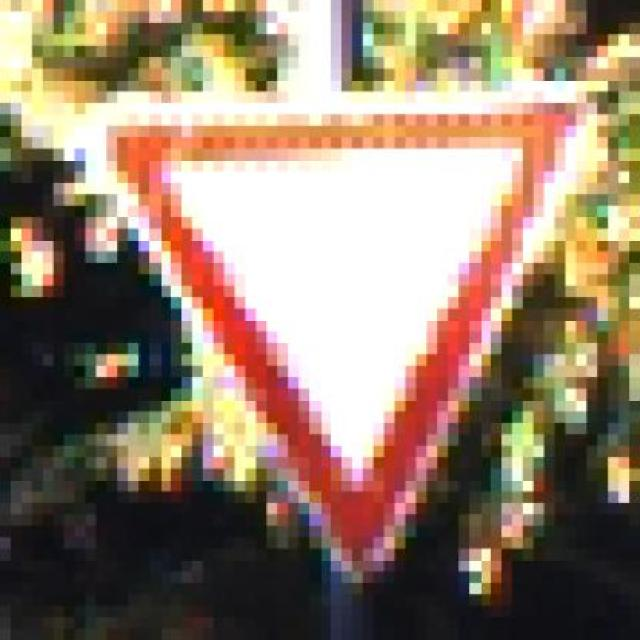Give Way: (53, 79, 630, 595)
